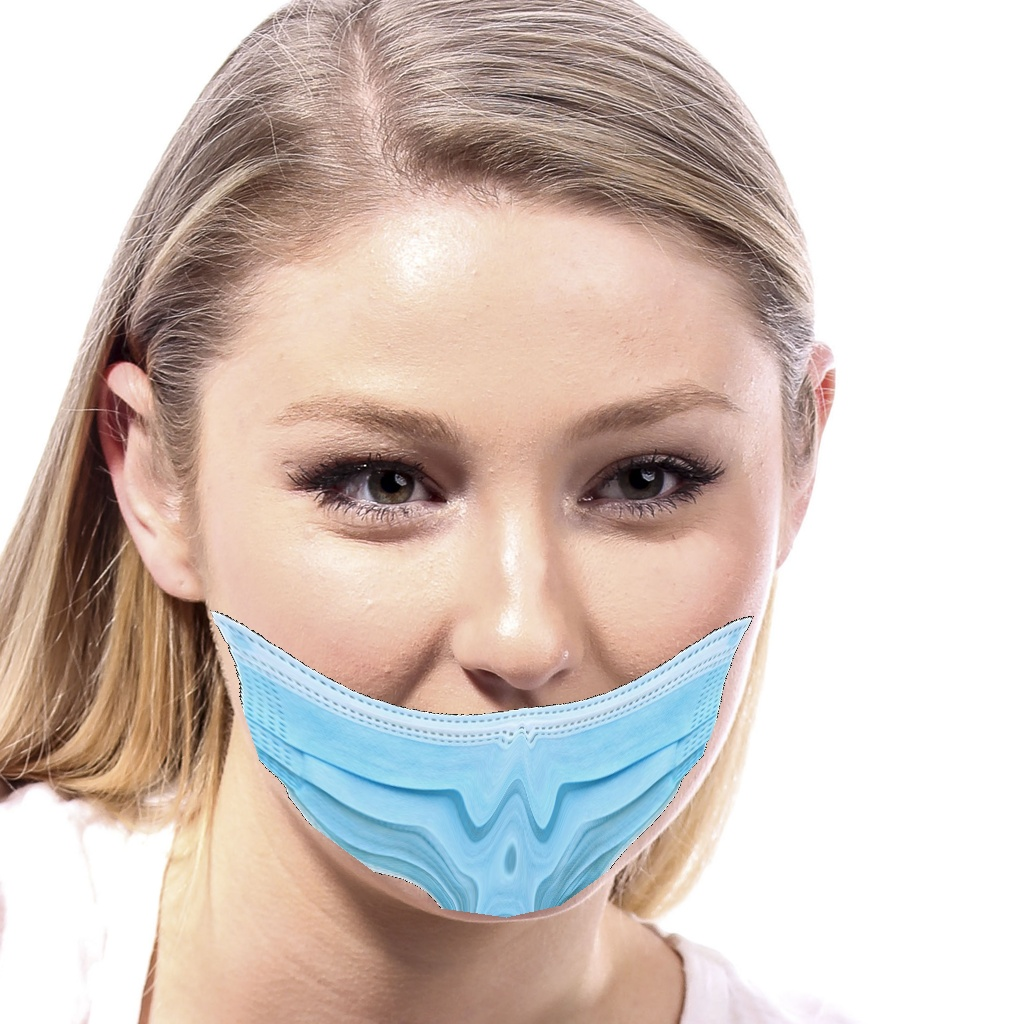mascarilla_mal_puesta: (147, 350, 769, 900)
